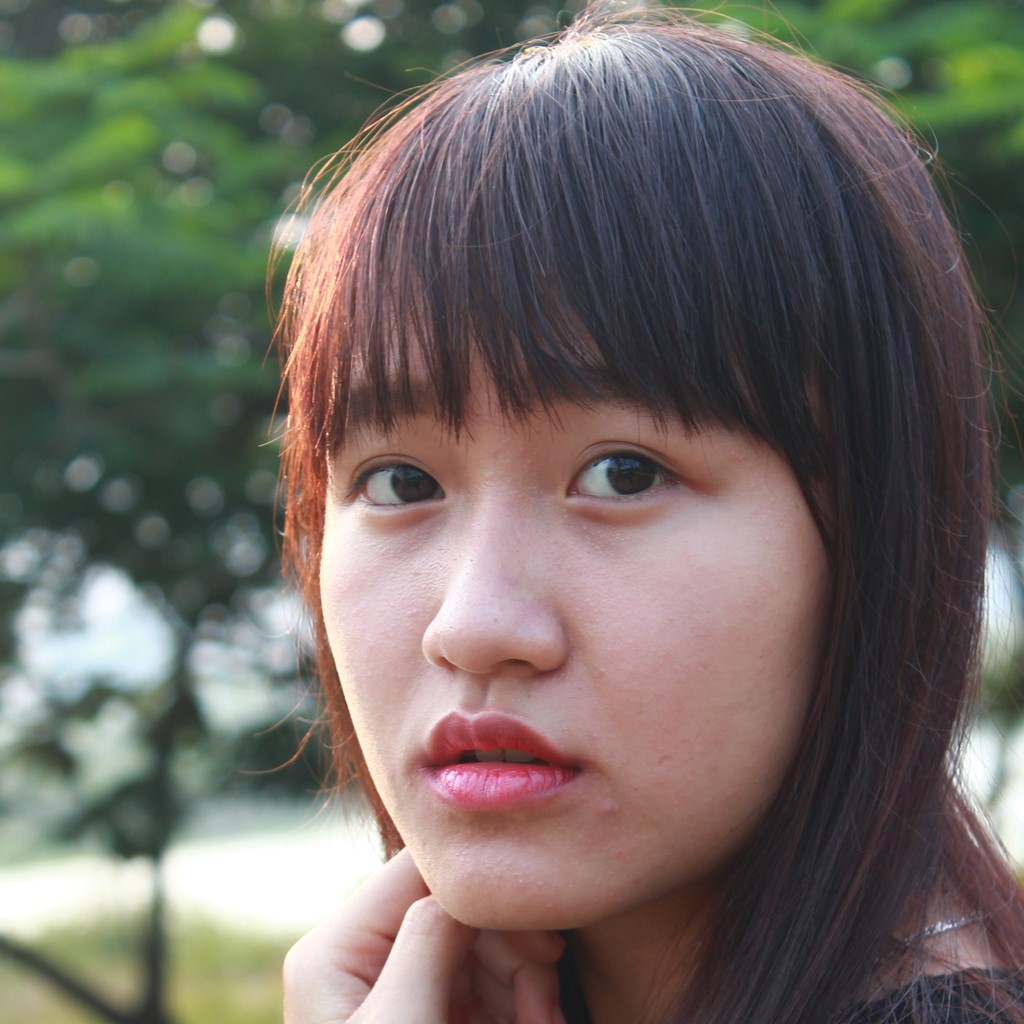sin_mascara: (321, 110, 879, 941)
